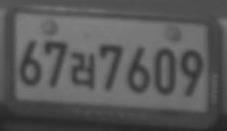0: (153, 48, 176, 93)
6: (126, 47, 151, 92), (18, 40, 42, 86)
7: (99, 45, 123, 90), (44, 41, 67, 87)
9: (180, 49, 203, 96)
러: (71, 51, 95, 88)
